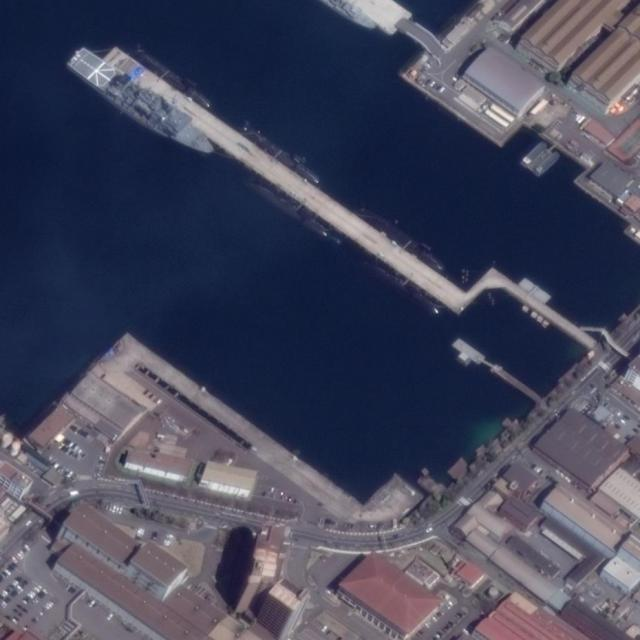Dock: (98, 47, 474, 312)
Other Warship: (63, 43, 222, 166)
Submarine: (249, 180, 341, 246), (359, 205, 447, 274), (239, 123, 323, 186), (133, 45, 214, 110), (363, 257, 441, 315)
